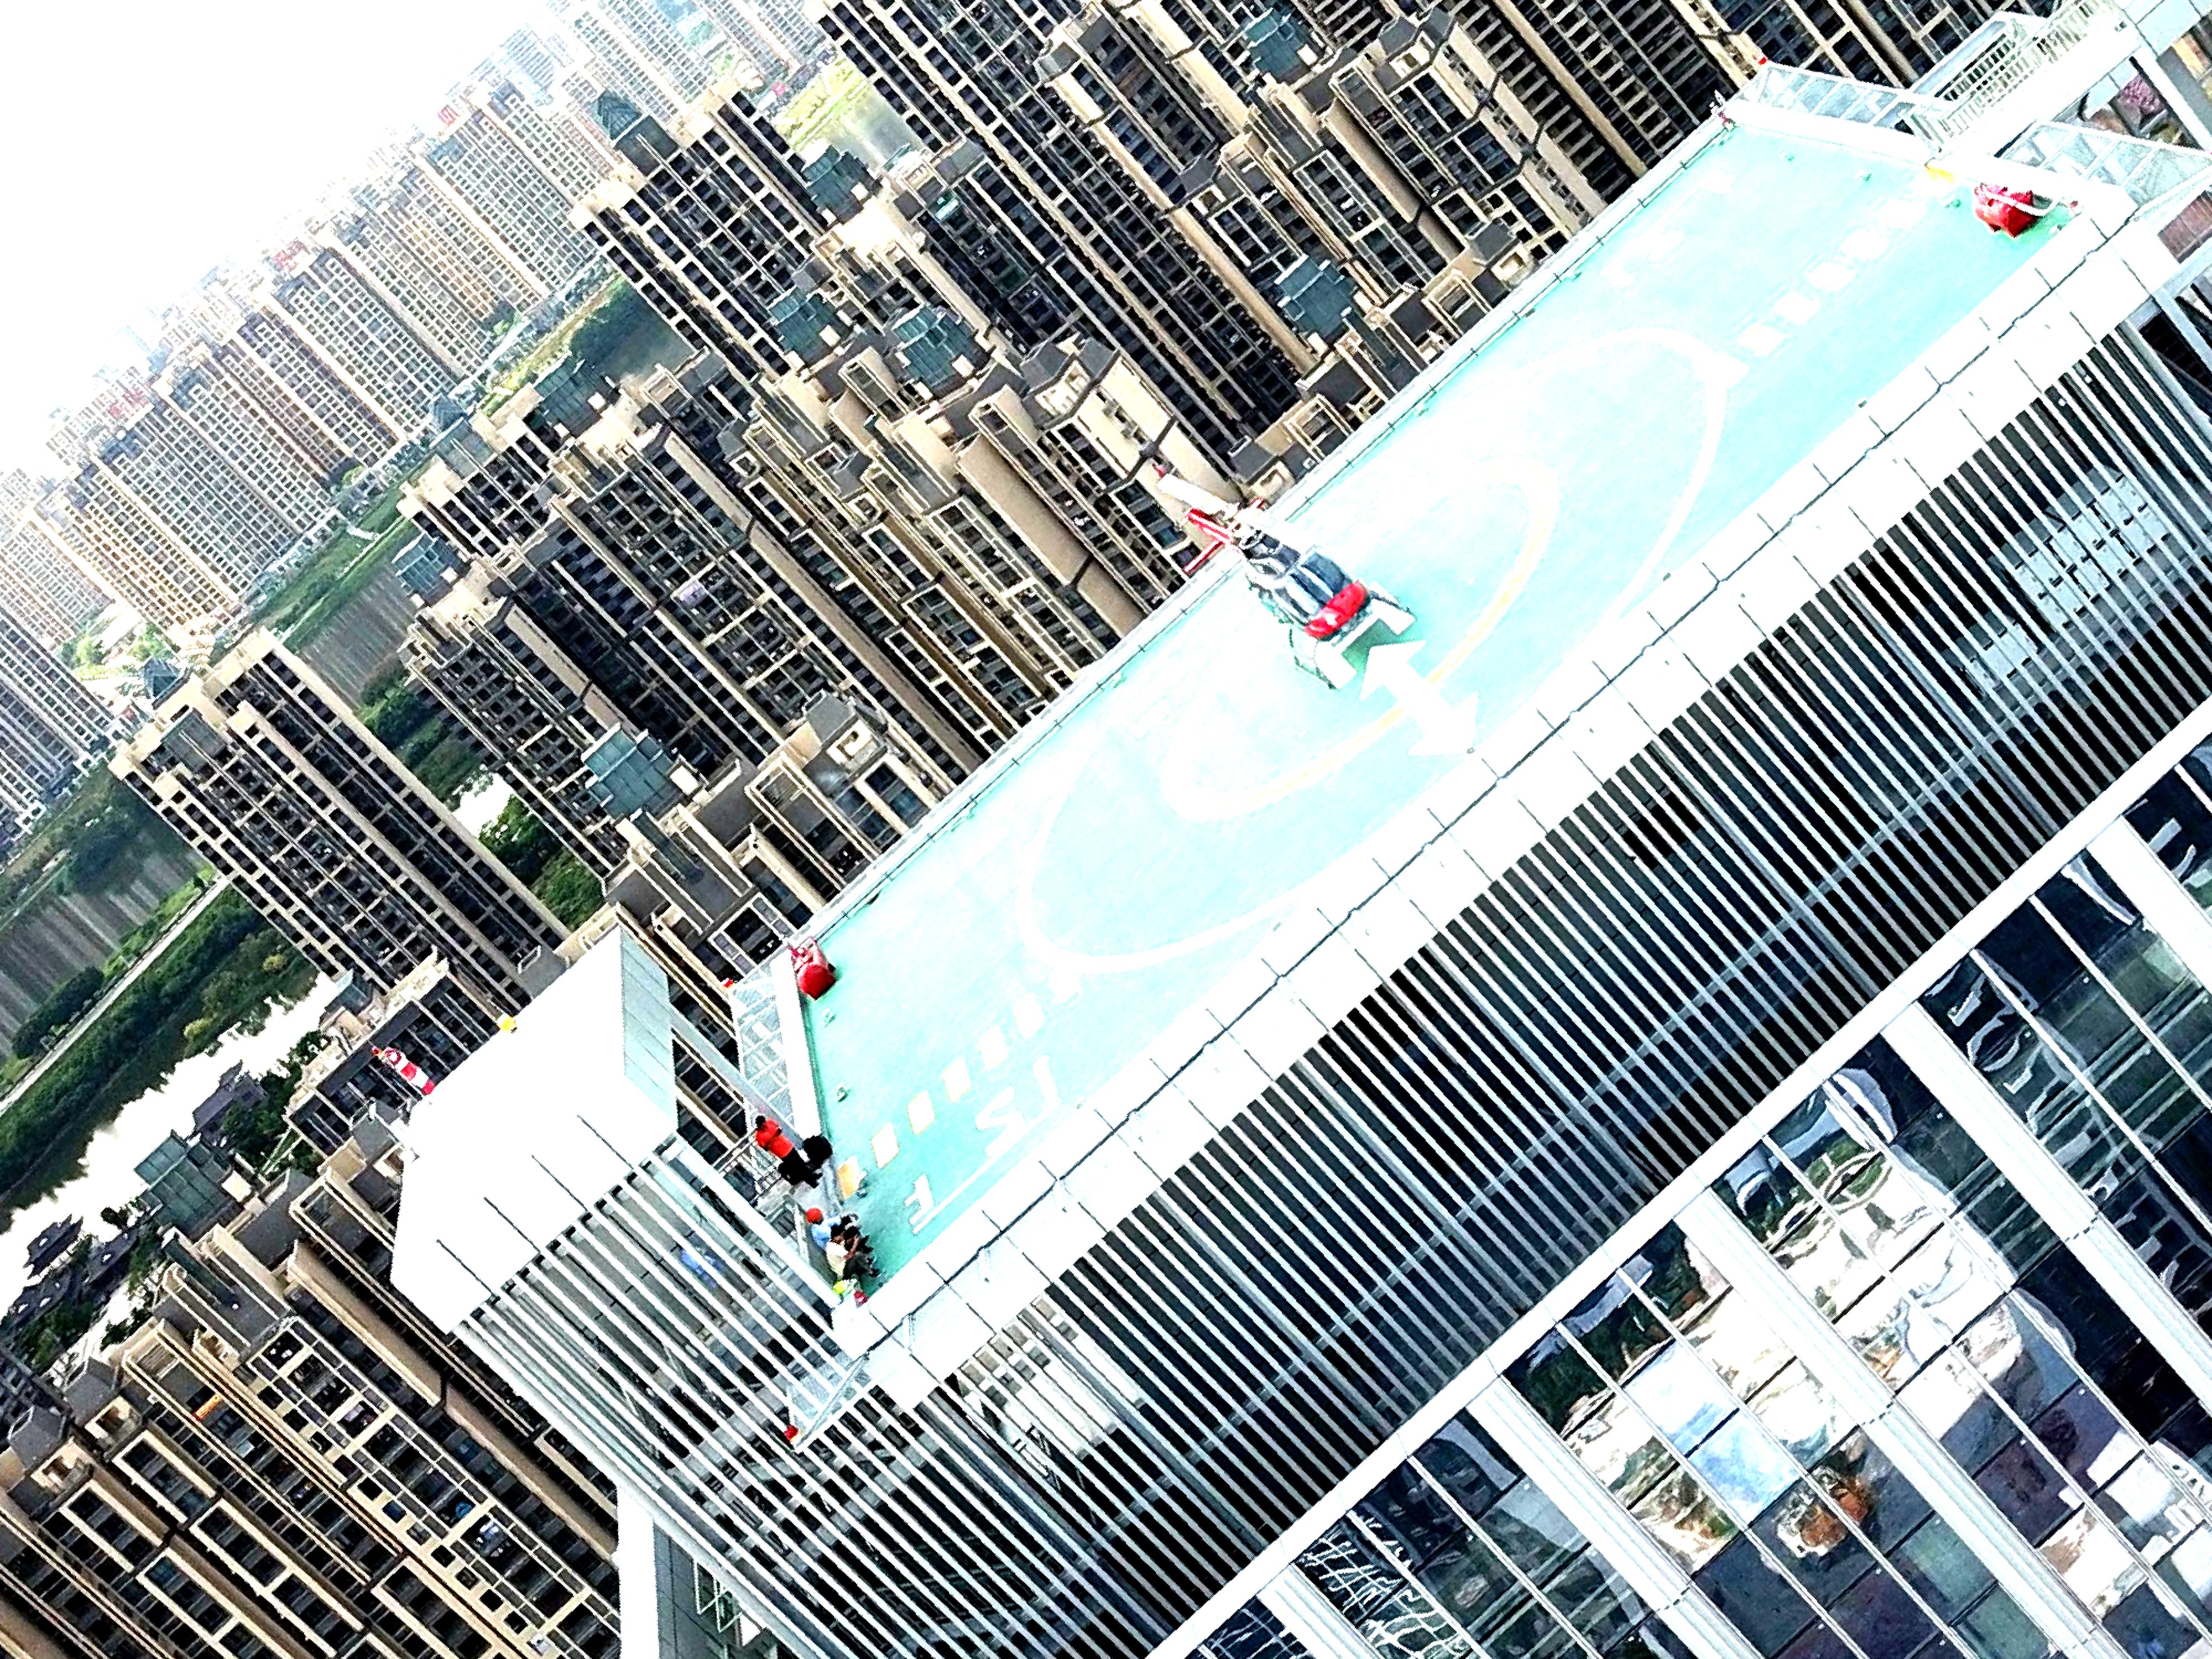Apron: (1141, 451, 1578, 800)
